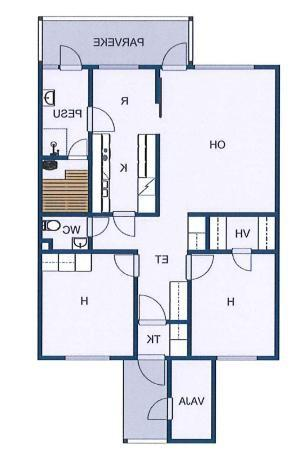bathroom: (40, 217, 89, 249)
door: (136, 353, 166, 389), (138, 292, 166, 326), (157, 40, 189, 69), (184, 251, 214, 280), (85, 105, 116, 133), (145, 397, 176, 422), (57, 43, 84, 71), (111, 211, 138, 238), (112, 252, 140, 278), (230, 247, 256, 273), (65, 136, 89, 160), (87, 216, 110, 237)
perimeter: (35, 61, 281, 442)
window: (59, 353, 114, 365), (213, 352, 262, 364), (193, 62, 258, 71), (93, 62, 142, 72), (39, 63, 61, 72)
